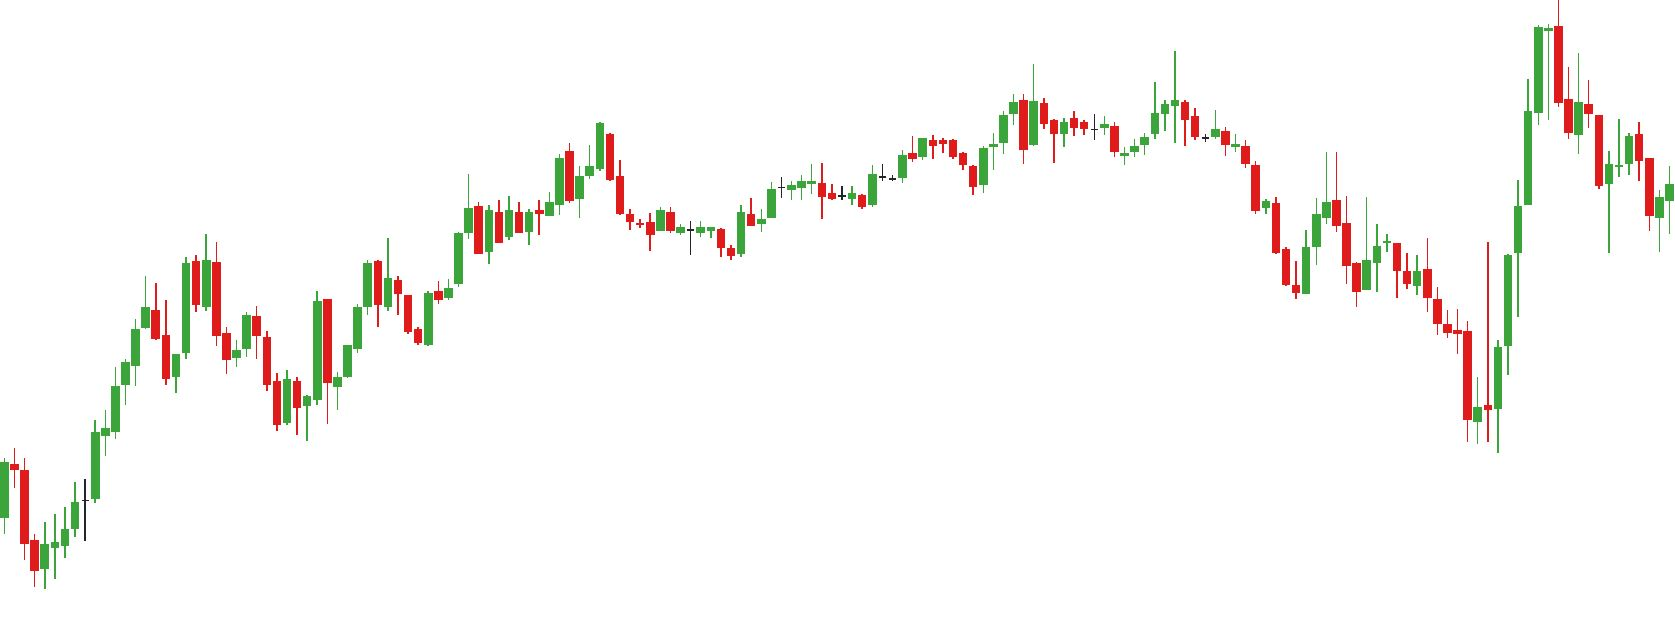buy: (158, 298, 293, 439)
sell: (1026, 43, 1192, 133)
